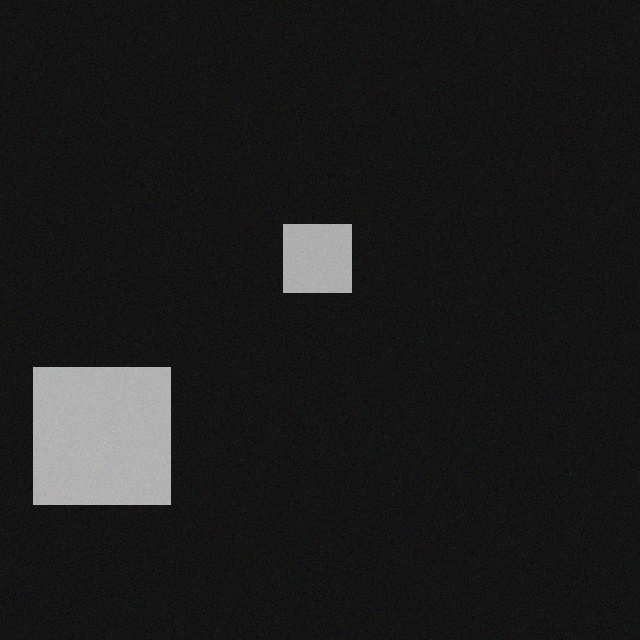square: (19, 370, 156, 507), (269, 227, 337, 295)
